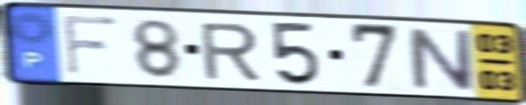5: (269, 19, 322, 88)
7: (347, 20, 404, 92)
8: (126, 17, 184, 80)
F: (60, 13, 121, 78)
N: (403, 25, 479, 93)
R: (197, 21, 264, 82)
